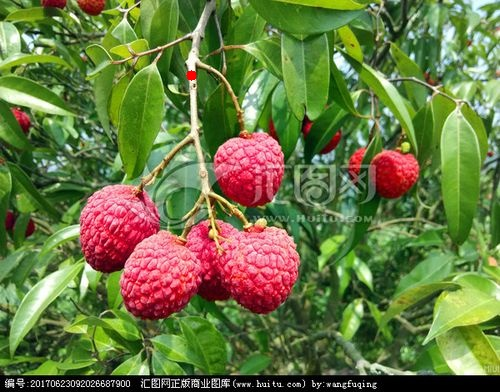litchi: (84, 134, 295, 310)
stem: (184, 1, 216, 143)
